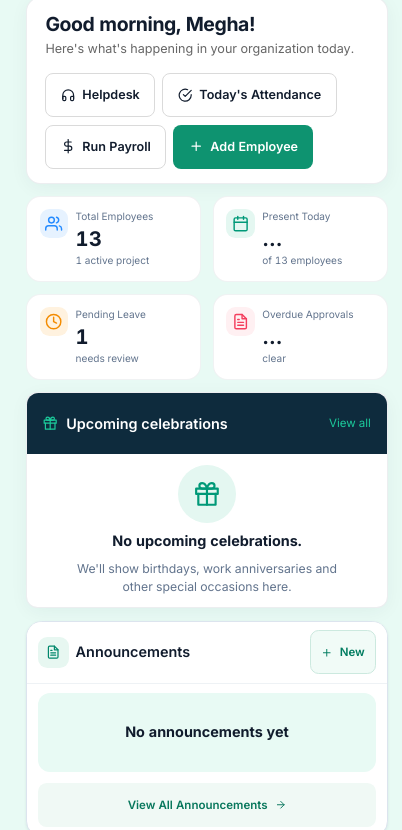
Test case: Admin dashboard reference layout and overlays › opens the existing Announcements page from View All Announcements
What coordinates should you click on to do the following:
click the button "View All Announcements"
I would click on:
 (207, 805)
Its box is 38,783 -> 376,827.
(page scrolled)
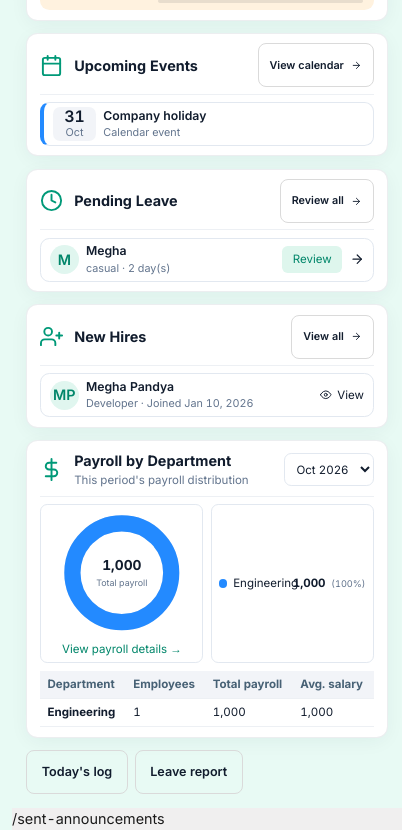
Result: the text with test id "route" reads "/sent-announcements" at 12,810 -> 165,827
